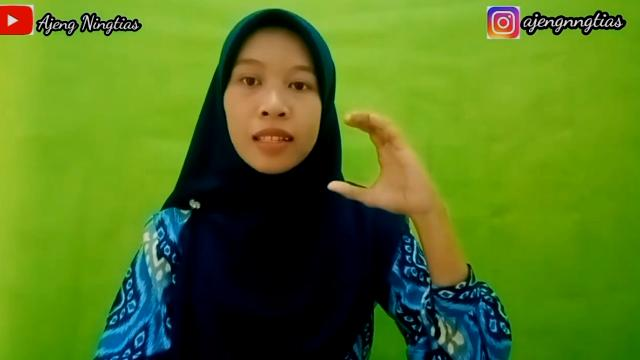C: (327, 109, 443, 216)
